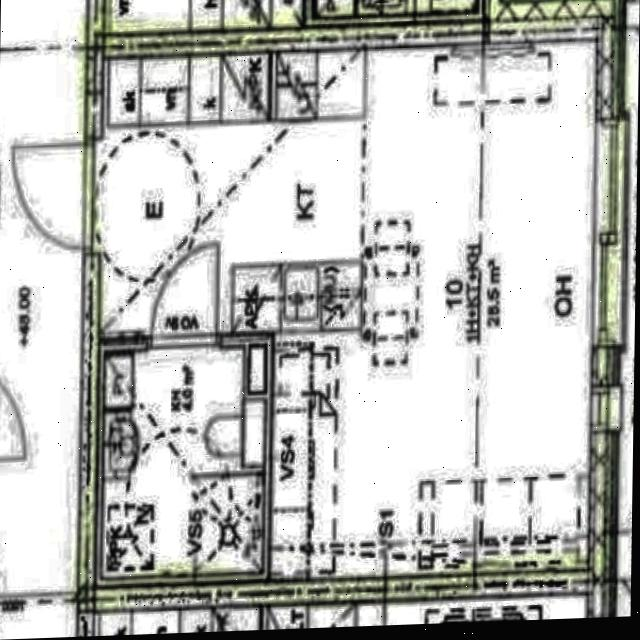room: (100, 342, 265, 582)
